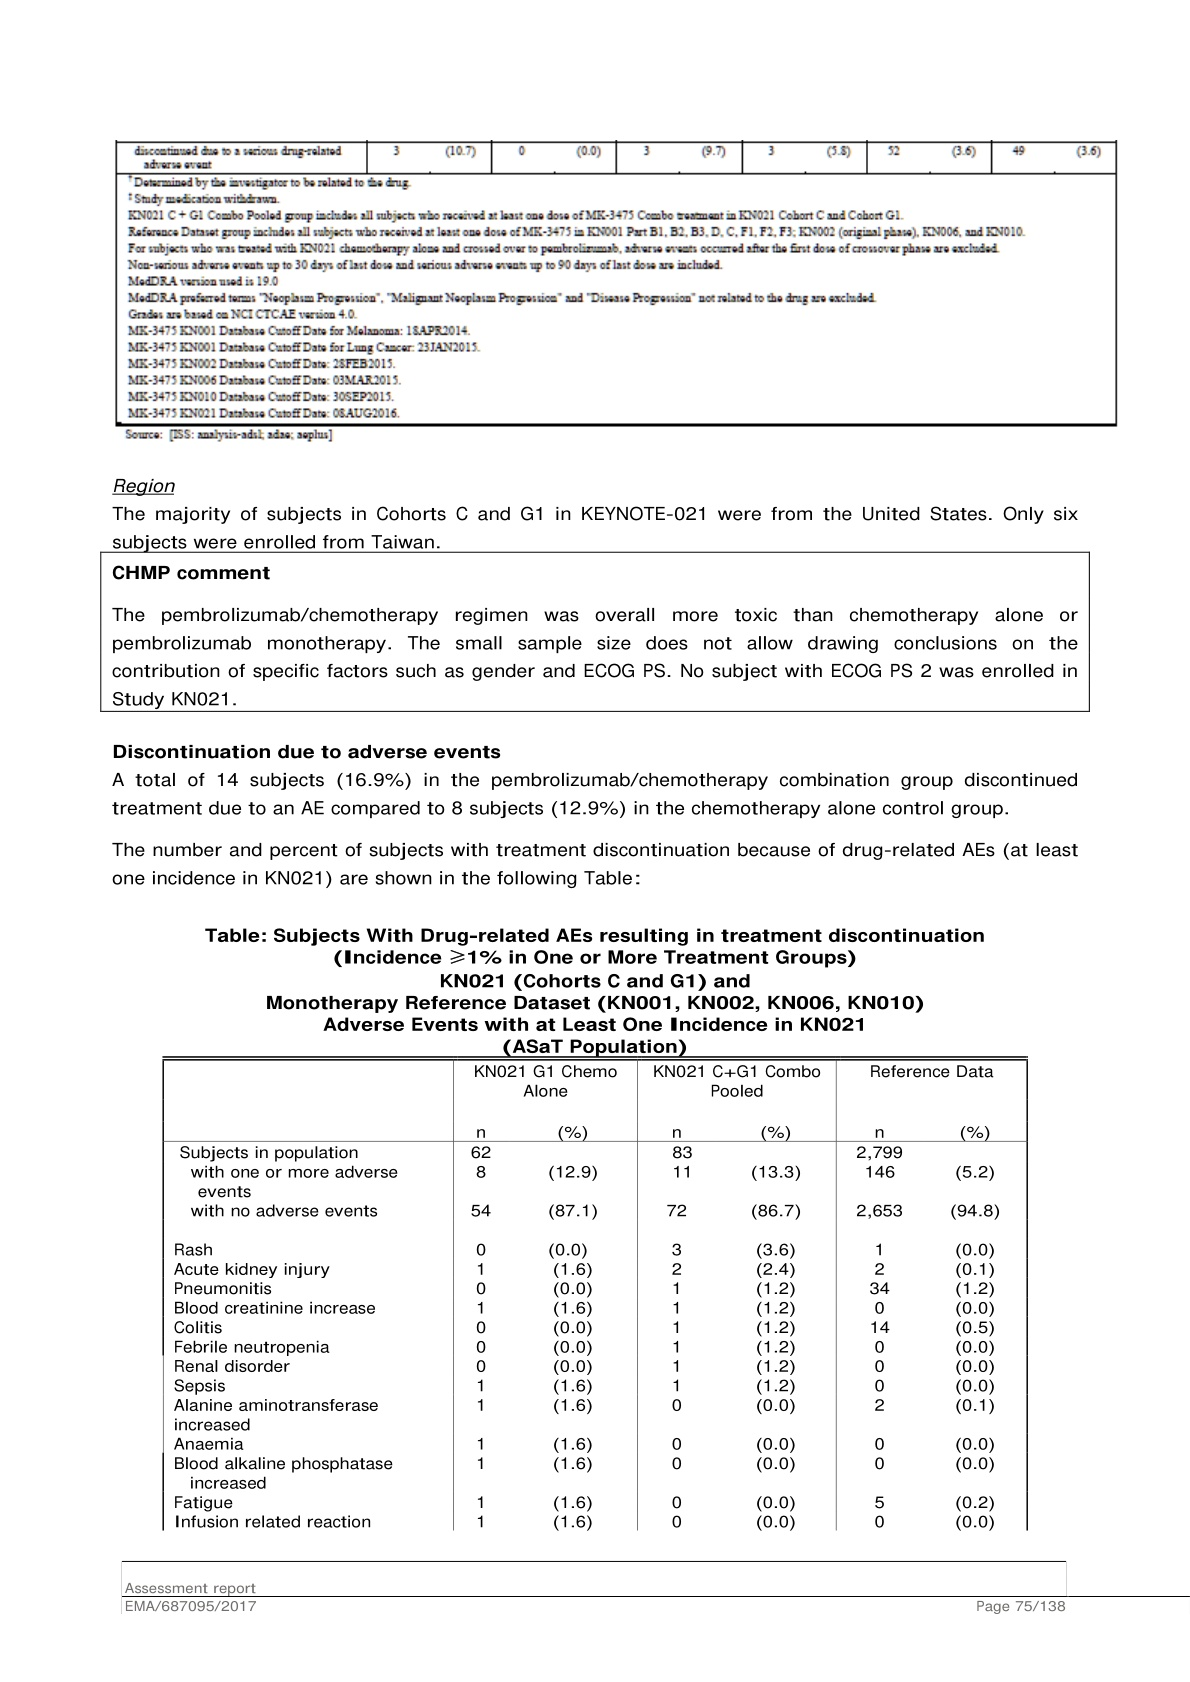merged_cells: (115, 140, 1118, 428)
partial_lined_merged_cells: (161, 1055, 1030, 1534)
